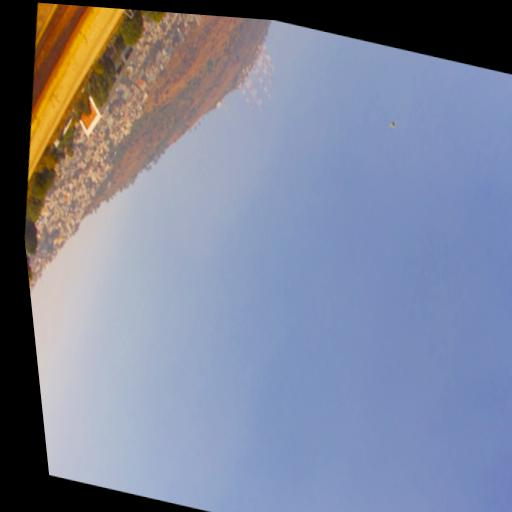drones: (387, 117, 399, 132)
